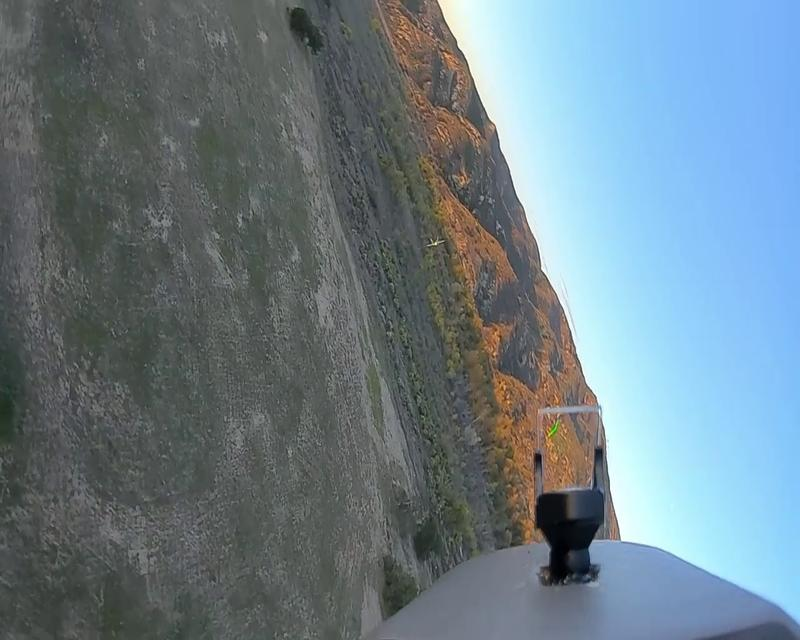UAV: (427, 235, 445, 248)
